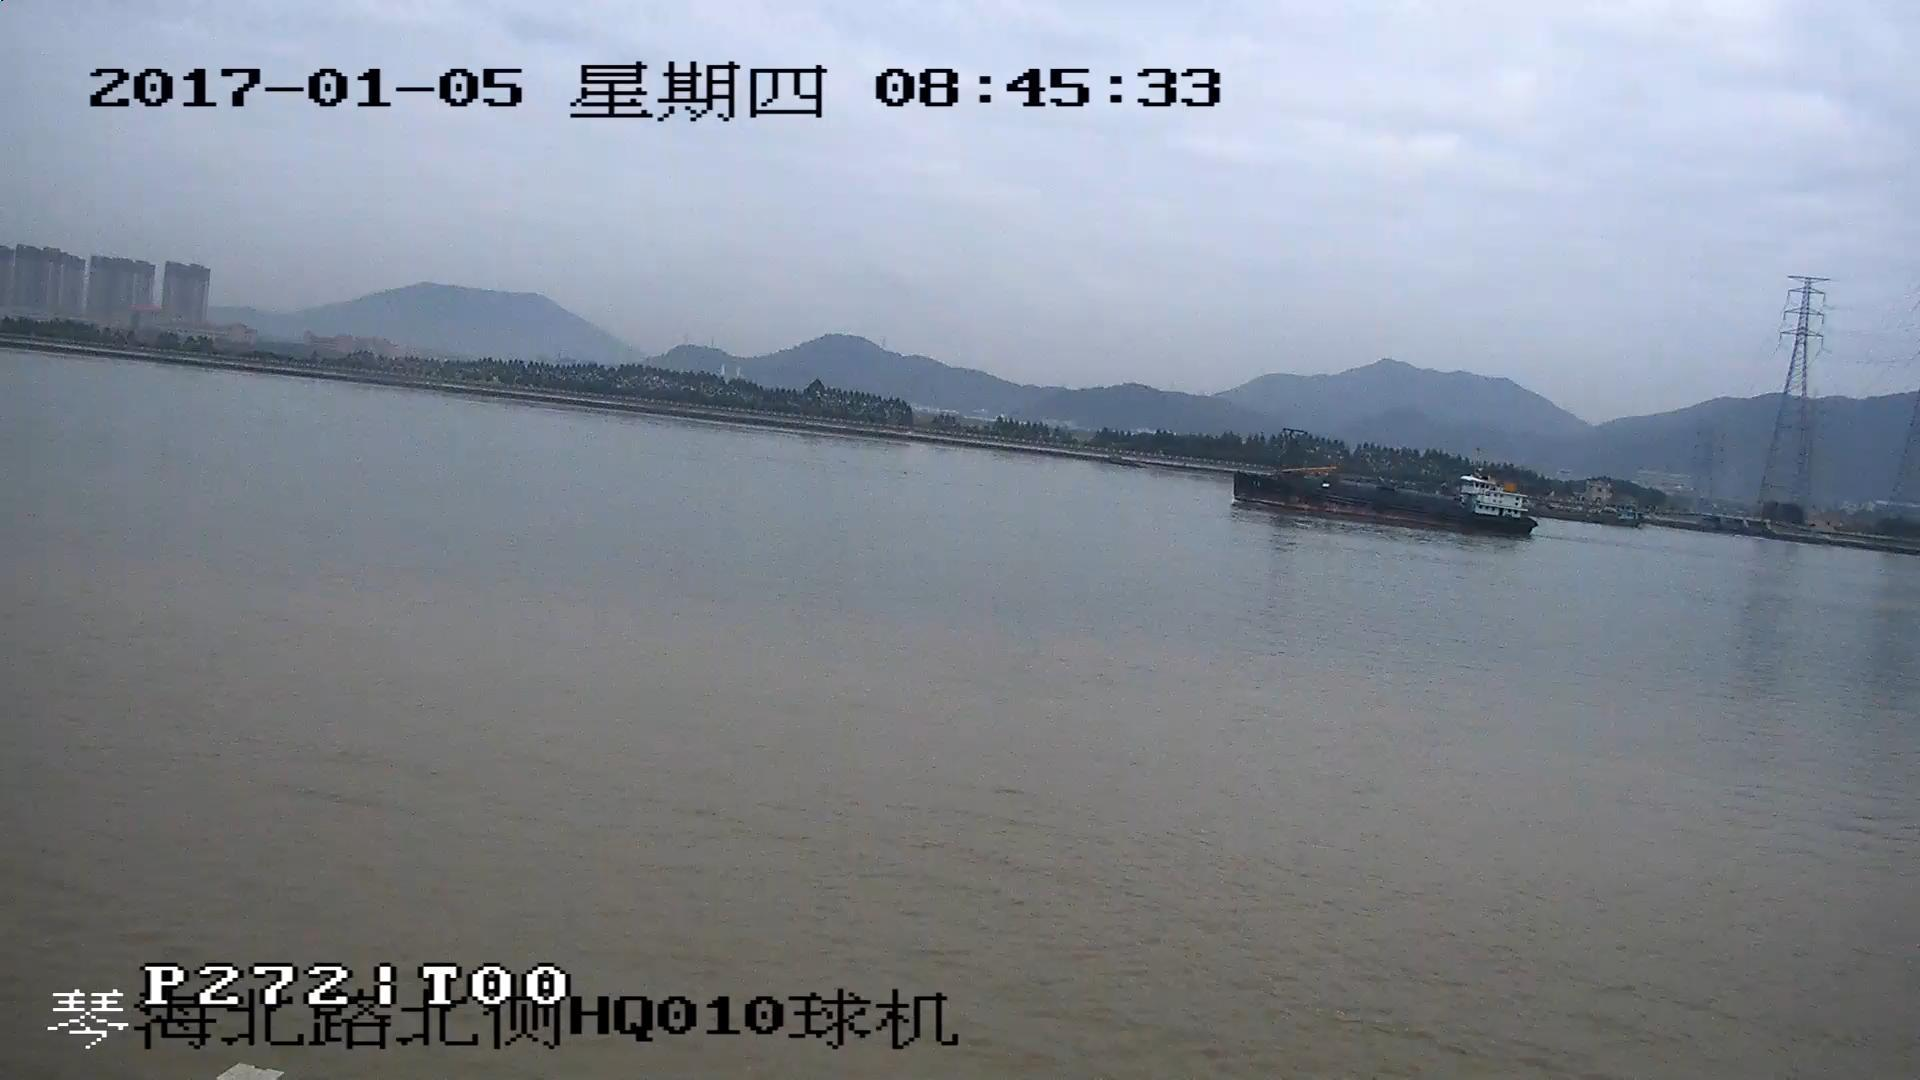Ship: (1234, 436, 1527, 531)
